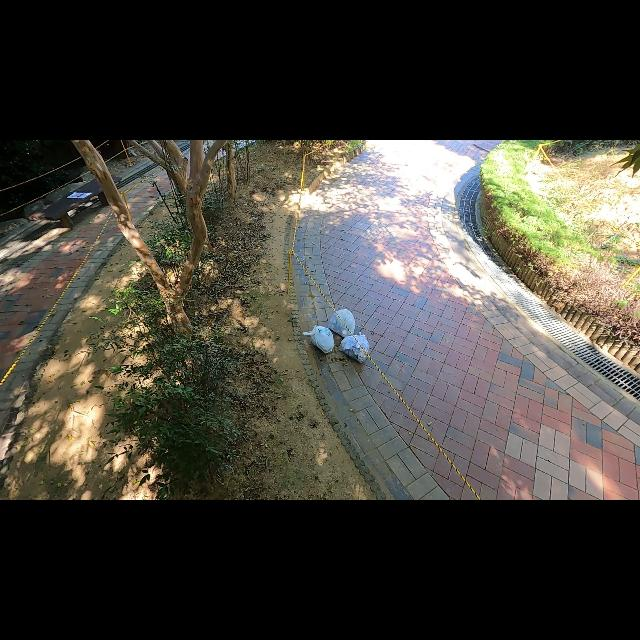trash: (339, 329, 371, 363), (326, 306, 358, 338), (304, 324, 336, 354)
